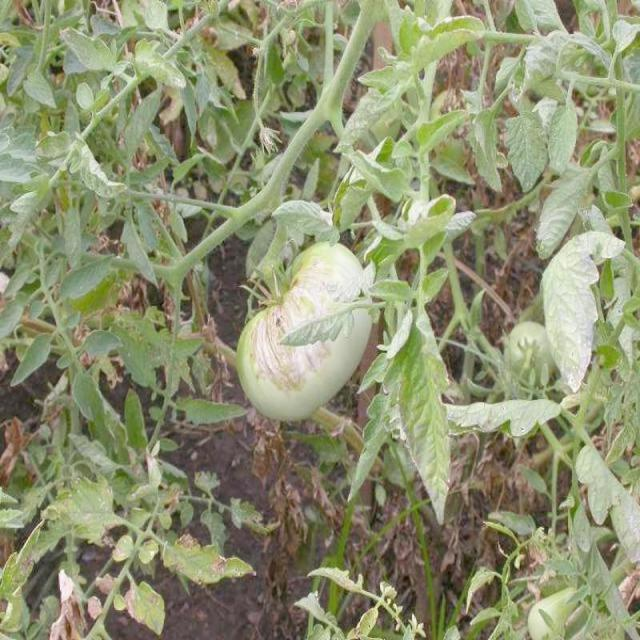Sunscald Fruit: (167, 168, 243, 265)
